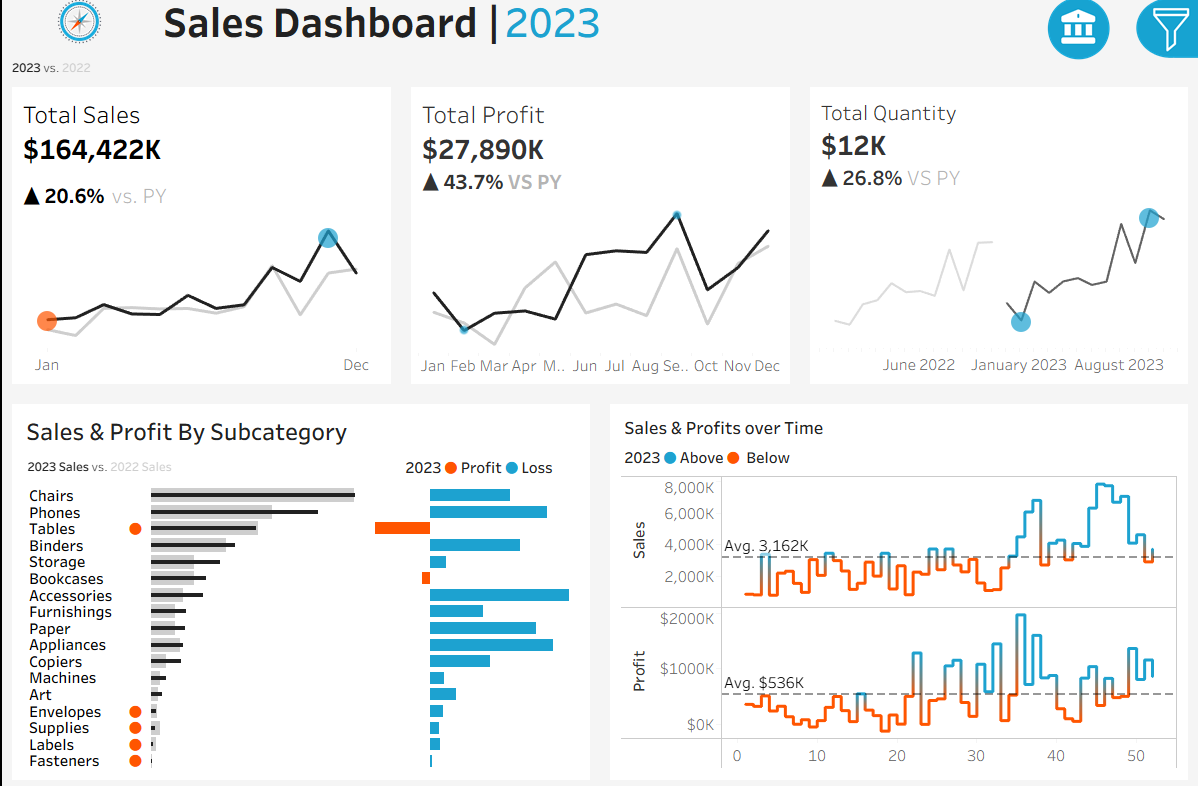

The page's visual inventory and layout, read from the dashboard file:
{"tool":"tableau","page":{"name":"Sales Dashboard","canvas":[1200,800],"ordinal":0},"visuals":[{"type":"dashboard-object","box":[1034,0,89,72]},{"type":"image","param":"Image/Icon - Logo.png","box":[1,1,156,54]},{"type":"text","box":[157,1,1042,54]},{"type":"blank","box":[965,11,225,90]},{"type":"worksheet","title":"Legend KPI","mark":"Automatic","box":[1,55,1198,41]},{"type":"worksheet","title":"KPI Sales","mark":"Automatic","rows":["Calculation_2193541719453702"],"cols":["Order Date"],"box":[1,96,400,307]},{"type":"worksheet","title":"KPI Profit","mark":"Automatic","rows":["Calculation_2193541808250909"],"cols":["Order Date"],"box":[401,96,399,307]},{"type":"worksheet","title":"KPI Quantity","mark":"Automatic","rows":["Calculation_2193541816987685"],"cols":["Order Date"],"box":[800,96,399,307]},{"type":"text","box":[965,101,225,44]},{"type":"parameter","param":"[Parameters].[Parameter 1]","box":[965,145,225,53]},{"type":"blank","box":[965,198,225,32]},{"type":"text","box":[965,230,225,46]},{"type":"filter","title":"KPI Sales","param":"[federated.03xmlyn03lxvtl13tlwj91dvgnwf].[none:Category:nk]","box":[965,276,225,61]},{"type":"filter","title":"KPI Sales","param":"[federated.03xmlyn03lxvtl13tlwj91dvgnwf].[none:Sub-Category:nk]","box":[965,337,225,78]},{"type":"blank","box":[965,415,225,35]},{"type":"text","box":[18,420,565,40]},{"type":"text","box":[617,420,565,32]},{"type":"text","box":[965,450,225,40]},{"type":"text","box":[617,452,565,29]},{"type":"worksheet","title":"Legend Subcategory","mark":"Automatic","box":[18,460,379,32]},{"type":"text","box":[397,460,186,32]},{"type":"worksheet","title":"Weekly Trends","mark":"Automatic","rows":["Calculation_2193541711847424","Calculation_2193541807943706"],"cols":["Order Date"],"box":[617,481,565,301]},{"type":"filter","title":"KPI Sales","param":"[federated.03xmlyn03lxvtl13tlwj91dvgnwf].[none:Region:nk]","box":[965,490,225,61]},{"type":"worksheet","title":"Subcategory Comparsion","mark":"Bar","rows":["Sub-Category","Calculation_0856810882191360"],"cols":["CY Sales (copy)_2193541713121281","Calculation_2193541711847424","Calculation_2193541807943706"],"box":[18,492,565,290]},{"type":"filter","title":"KPI Sales","param":"[federated.03xmlyn03lxvtl13tlwj91dvgnwf].[none:State:nk]","box":[965,551,225,61]},{"type":"filter","title":"KPI Sales","param":"[federated.03xmlyn03lxvtl13tlwj91dvgnwf].[none:City:nk]","box":[965,612,225,61]}]}

Visuals, with their boxes in screenshot pixels (x1, y1, x2, y2), scaled from the page's 1200x800 canvas onto the 1198x786 screenshot:
dashboard-object: <region>1032, 0, 1121, 71</region>
image: <region>1, 1, 157, 54</region>
text: <region>157, 1, 1197, 54</region>
blank: <region>963, 11, 1188, 99</region>
"Legend KPI" worksheet: <region>1, 54, 1197, 94</region>
"KPI Sales" worksheet: <region>1, 94, 400, 396</region>
"KPI Profit" worksheet: <region>400, 94, 799, 396</region>
"KPI Quantity" worksheet: <region>799, 94, 1197, 396</region>
text: <region>963, 99, 1188, 142</region>
parameter: <region>963, 142, 1188, 195</region>
blank: <region>963, 195, 1188, 226</region>
text: <region>963, 226, 1188, 271</region>
"KPI Sales" filter: <region>963, 271, 1188, 331</region>
"KPI Sales" filter: <region>963, 331, 1188, 408</region>
blank: <region>963, 408, 1188, 442</region>
text: <region>18, 413, 582, 452</region>
text: <region>616, 413, 1180, 444</region>
text: <region>963, 442, 1188, 481</region>
text: <region>616, 444, 1180, 473</region>
"Legend Subcategory" worksheet: <region>18, 452, 396, 483</region>
text: <region>396, 452, 582, 483</region>
"Weekly Trends" worksheet: <region>616, 473, 1180, 768</region>
"KPI Sales" filter: <region>963, 481, 1188, 541</region>
"Subcategory Comparsion" worksheet (Bar marks): <region>18, 483, 582, 768</region>
"KPI Sales" filter: <region>963, 541, 1188, 601</region>
"KPI Sales" filter: <region>963, 601, 1188, 661</region>
